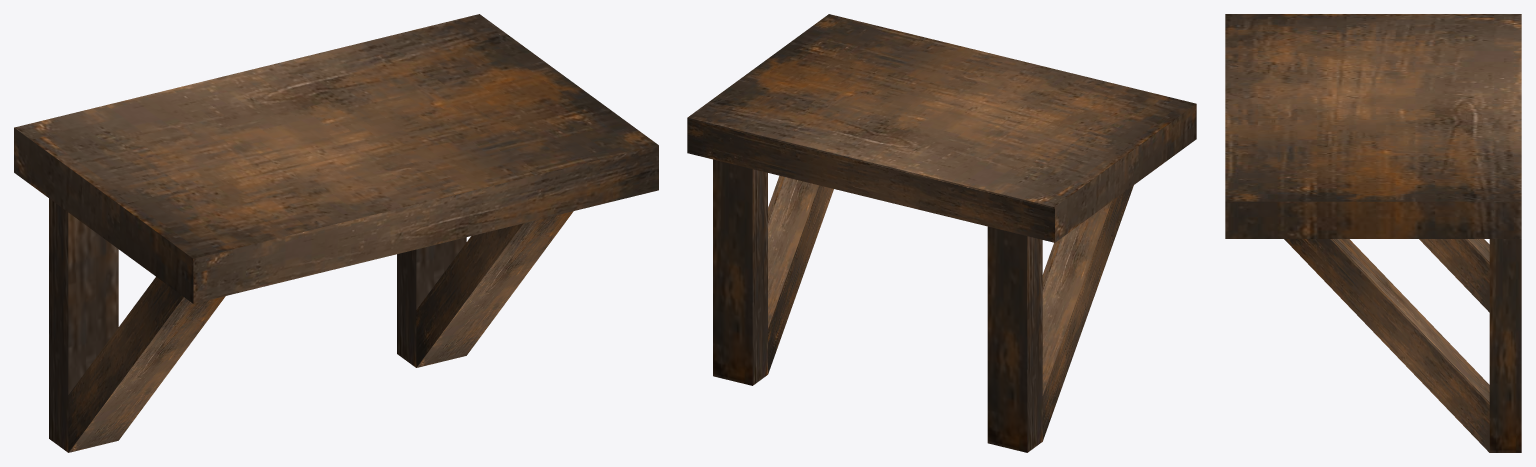
The model's file is 등 받침대 2.FBX.
The picture shows the model from 3 angles, left to right: view 1: azimuth 30°, elevation 25°; view 2: azimuth 150°, elevation 25°; view 3: azimuth 270°, elevation 25°; orthographic projection. The views are drawn at different scales.
Parts seen in each view (by area): view 1: 등 받침대 2; view 2: 등 받침대 2; view 3: 등 받침대 2.
Boxes of the visible parts, x1,y1,x2,y2 form: 등 받침대 2: [14, 14, 658, 452]; 등 받침대 2: [687, 14, 1196, 452]; 등 받침대 2: [1225, 14, 1521, 452].
Size of the model in its own units: 18.07 by 11.85 by 12.06.
